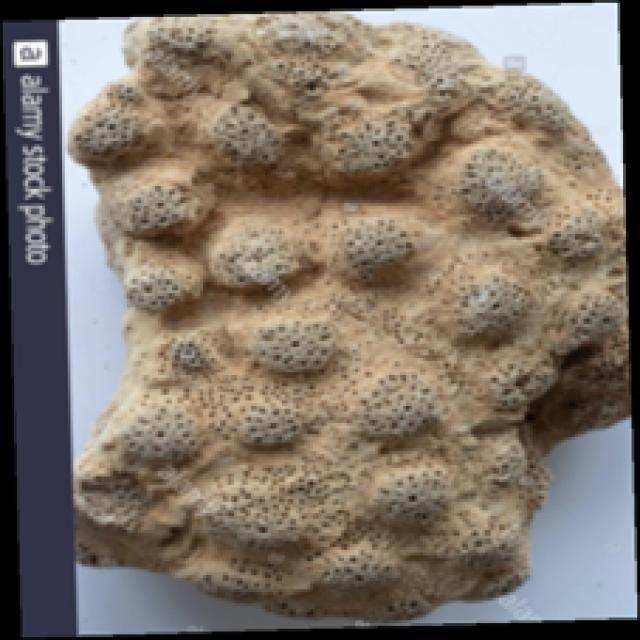Dead Coral: (105, 41, 597, 579)
